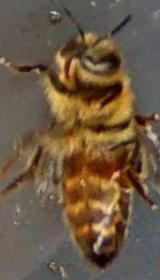varroa_mite: (98, 146, 128, 188)
